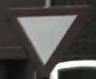Give way: (2, 4, 87, 71)
